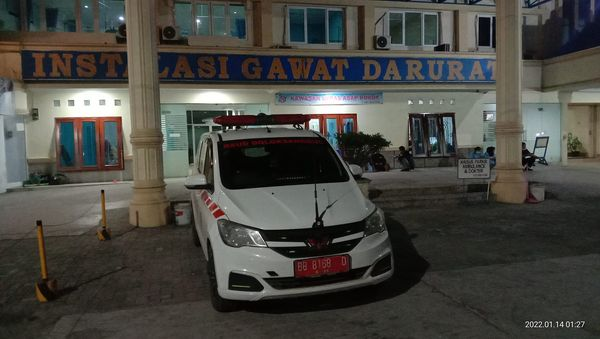plate: (294, 252, 351, 279)
